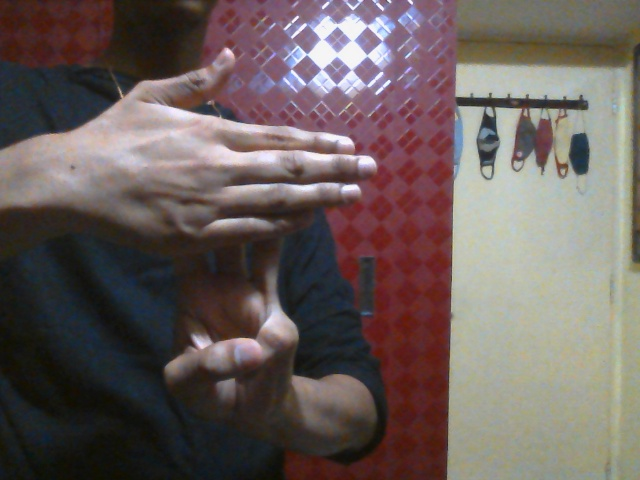M: (67, 45, 379, 429)
